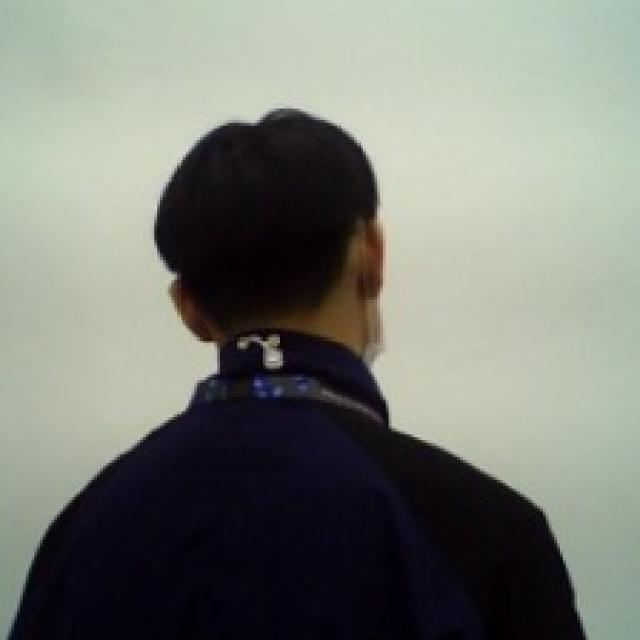no_gloves: (151, 105, 390, 334)
